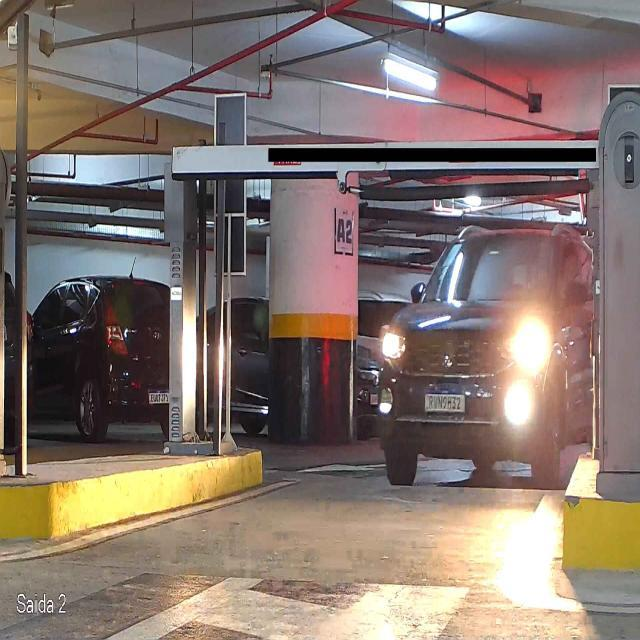mercosul_plate: (423, 385, 467, 414)
